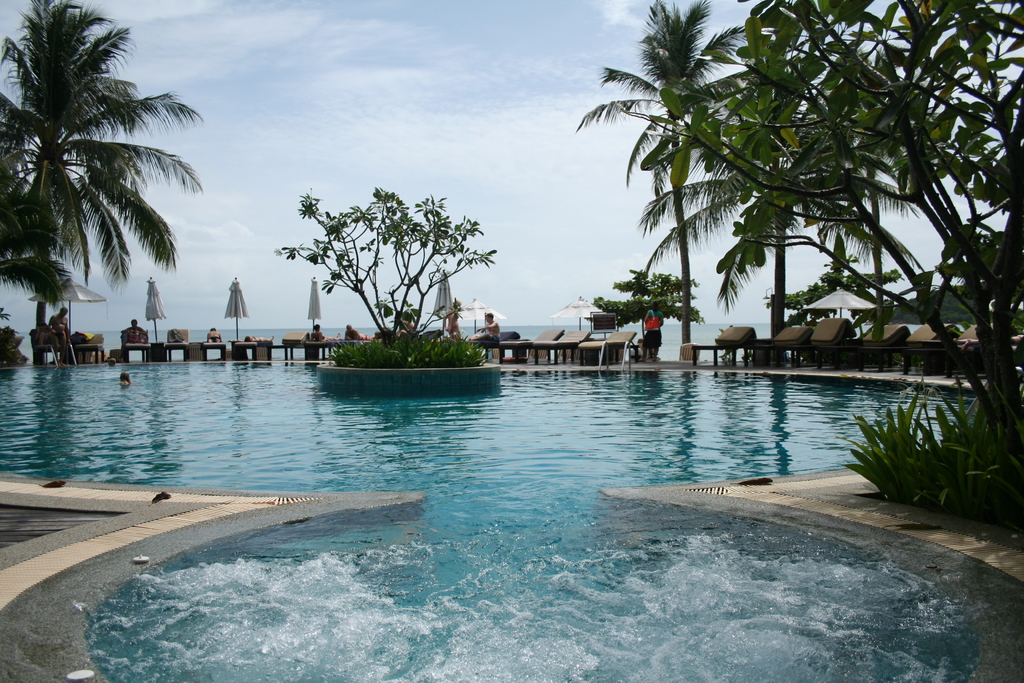Tree: (0, 0, 1024, 518)
